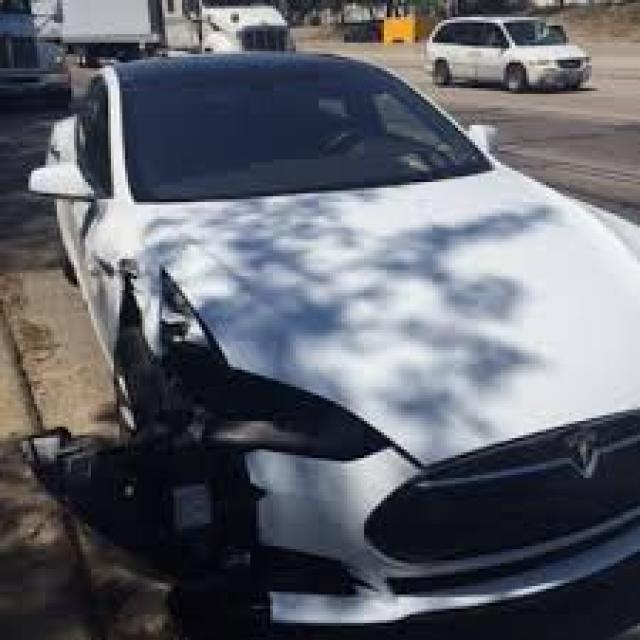moderate: (42, 266, 454, 599)
